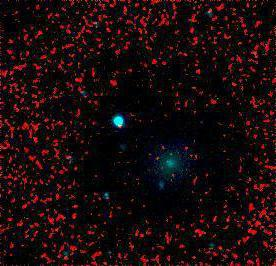star: (150, 153, 180, 183)
